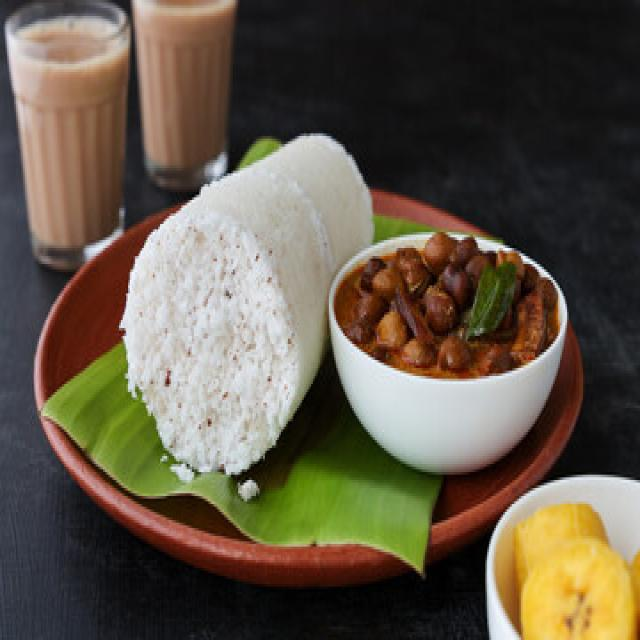CURRY: (338, 232, 556, 381)
PUTTU: (118, 131, 375, 475)
